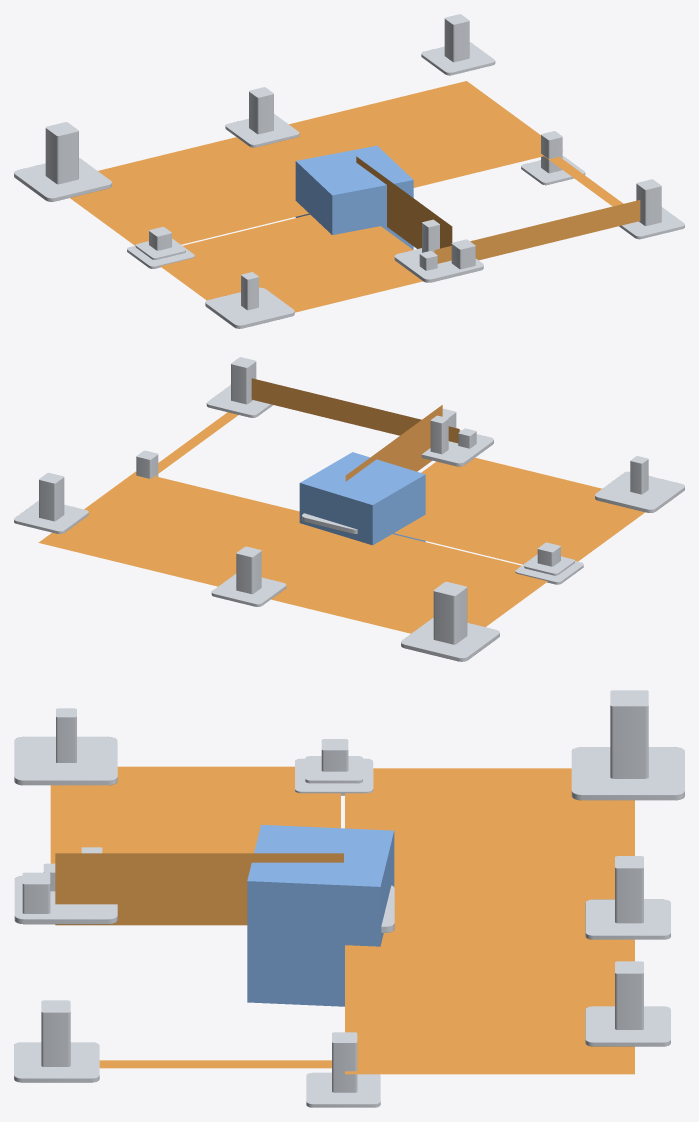
File: Public_Safety.glb
3 views of the same model, one above another, from view 1: azimuth 30°, elevation 25°; view 2: azimuth 150°, elevation 25°; view 3: azimuth 270°, elevation 25° (orthographic). The views are drawn at different scales.
Visible parts, largest first — view 1: ConnectionFlow2, ConnectionFlow4, ConnectionFlow1, Metacube, ConnectionFlow6, ConnectionFlow3, Plate_4, Plate_6, Plate_Building4, Plate_7, Plate_2, Plate_3 (+12 smaller); view 2: ConnectionFlow4, ConnectionFlow2, ConnectionFlow1, Metacube, ConnectionFlow6, Plate_4, ConnectionFlow3, Plate_6, Plate_Building4, Plate_3, Plate_2, Plate_Building2 (+11 smaller); view 3: ConnectionFlow4, ConnectionFlow2, Metacube, ConnectionFlow1, ConnectionFlow3, Plate_4, Plate_6, Plate_Building4, Plate_2, Plate_3, Plate_8, Plate_7 (+11 smaller).
Boxes of the visible parts, box(x1,y1,x2,y2) form: ConnectionFlow2: box(70, 137, 308, 245); ConnectionFlow4: box(269, 81, 543, 187); ConnectionFlow1: box(160, 214, 422, 312); Metacube: box(295, 145, 413, 249); ConnectionFlow6: box(434, 200, 640, 263); ConnectionFlow3: box(356, 156, 452, 248); Plate_4: box(14, 158, 111, 201); Plate_6: box(205, 287, 294, 328); Plate_Building4: box(45, 122, 78, 184); Plate_7: box(394, 242, 483, 282); Plate_2: box(421, 42, 495, 75); Plate_3: box(225, 114, 299, 147); ConnectionFlow4: box(38, 471, 327, 586); ConnectionFlow2: box(265, 532, 547, 633); ConnectionFlow1: box(394, 457, 644, 564); Metacube: box(299, 452, 425, 545); ConnectionFlow6: box(251, 378, 459, 443); Plate_4: box(401, 617, 499, 661); ConnectionFlow3: box(345, 405, 442, 481); Plate_6: box(595, 471, 684, 512); Plate_Building4: box(433, 581, 467, 644); Plate_3: box(211, 574, 286, 606); Plate_2: box(14, 500, 88, 533); Plate_Building2: box(39, 472, 64, 521); ConnectionFlow4: box(345, 924, 634, 1074); ConnectionFlow2: box(345, 768, 634, 924); Metacube: box(247, 825, 394, 1006); ConnectionFlow1: box(50, 766, 340, 863); ConnectionFlow3: box(55, 853, 343, 925); Plate_4: box(571, 747, 684, 800); Plate_6: box(14, 736, 117, 785); Plate_Building4: box(610, 690, 648, 778); Plate_2: box(585, 1006, 670, 1046); Plate_3: box(585, 899, 670, 939); Plate_8: box(14, 1042, 99, 1082); Plate_7: box(14, 875, 117, 924).
Size of the model in its own units: 5.7 by 1.28 by 4.87.
